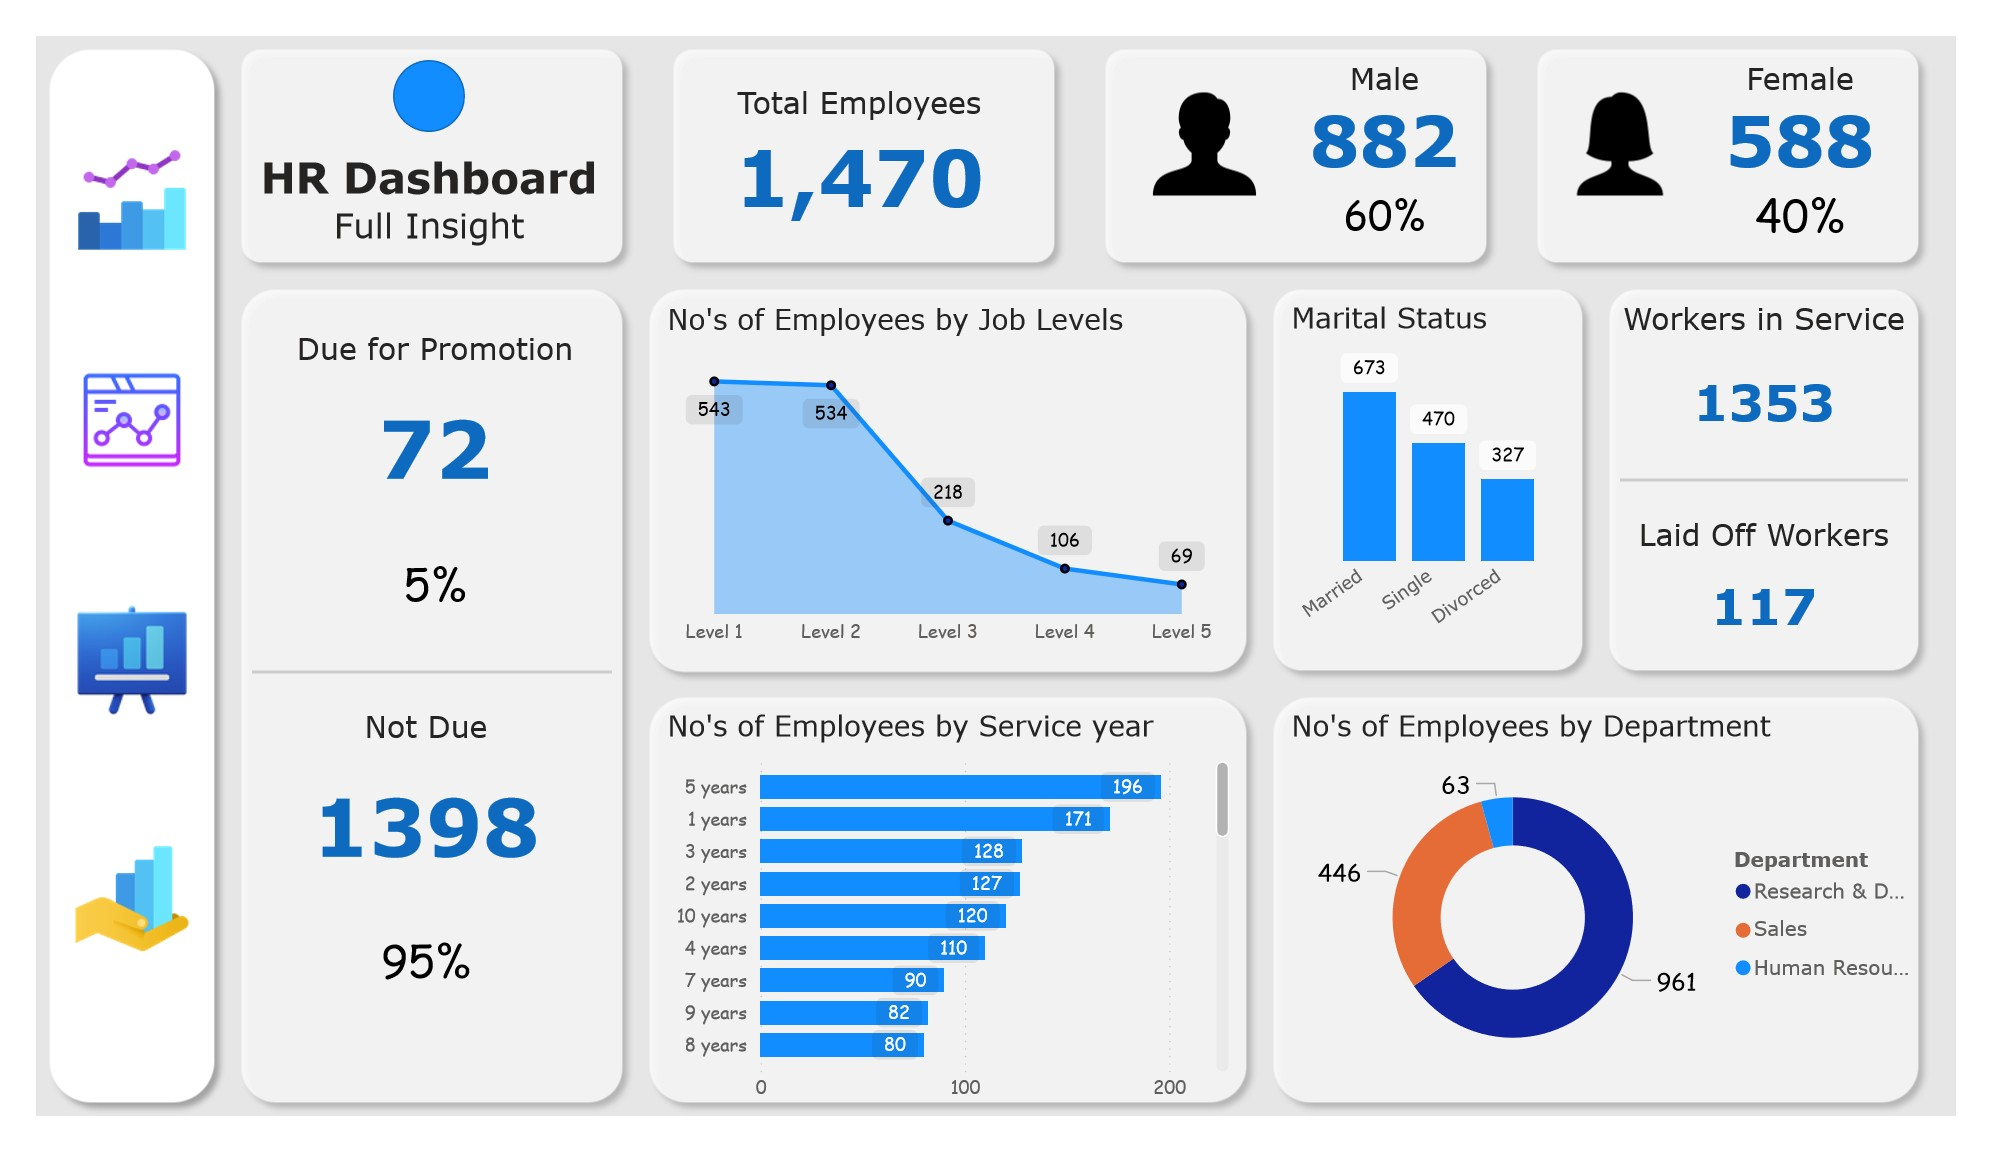

The page's visual inventory and layout, read from the dashboard file:
{"tool":"powerbi","page":{"name":"Page 1","canvas":[1280,720],"ordinal":0},"visuals":[{"type":"shape","box":[0,0,128,720],"z":0},{"type":"shape","box":[128,0,272,160],"z":1000,"group":"g1"},{"type":"shape","box":[704,0,272,160],"z":1000,"group":"g3"},{"type":"shape","box":[128,160,272,560],"z":1000,"group":"g5"},{"type":"shape","box":[1040,160,224,272],"z":1000},{"type":"shape","box":[416,0,272,160],"z":2000,"group":"g2"},{"type":"shape","box":[992,0,272,160],"z":2000,"group":"g4"},{"type":"shape","box":[816,160,224,272],"z":2000,"group":"g9"},{"type":"card","title":"Workers in Service","fields":{"Values":["All Measures.In service"]},"box":[1040,176,224,112],"z":2000},{"type":"shape","box":[400,432,416,288],"z":2000,"group":"g6"},{"type":"shape","box":[816,432,448,288],"z":2000,"group":"g8"},{"type":"shape","box":[400,160,416,273.1],"z":3000,"group":"g7"},{"type":"card","title":"Laid Off Workers","fields":{"Values":["All Measures.Laid off"]},"box":[1056,320,192,96],"z":3000},{"type":"group","id":"g1","title":"Group 1","box":[128,0,272,160],"z":4000},{"type":"group","id":"g2","title":"Group 2","box":[416,0,272,160],"z":5000},{"type":"lineClusteredColumnComboChart","title":"Marital Status","fields":{"Category":["HR Analytics Data.MaritalStatus"],"Y":["CountNonNull(HR Analytics Data.MaritalStatus)"]},"box":[832,176,192,240],"z":5000,"group":"g9"},{"type":"group","id":"g3","title":"Group 4","box":[704,0,272,160],"z":6000},{"type":"donutChart","title":"No''s of Employees by Department","fields":{"Category":["HR Analytics Data.Department"],"Y":["CountNonNull(HR Analytics Data.Department)"]},"box":[832,448,432,256],"z":6000,"group":"g8"},{"type":"group","id":"g4","title":"Group 5","box":[992,0,272,160],"z":7000},{"type":"card","title":"Due for Promotion","fields":{"Values":["All Measures.Due for promotion"]},"box":[165.6,196,200,129.4],"z":7000,"group":"g5"},{"type":"group","id":"g5","title":"Group 6","box":[128,160,272,560],"z":8000},{"type":"card","title":"Male","fields":{"Values":["All Measures.% Due for promotion"]},"box":[225.6,331.7,80,67.9],"z":8000,"group":"g5"},{"type":"card","title":"Female","fields":{"Values":["All Measures.Female"]},"box":[1104,16,144,80],"z":9000,"group":"g4"},{"type":"group","id":"g6","title":"Group 7","box":[400,432,416,272],"z":9000},{"type":"card","title":"Not Due","fields":{"Values":["All Measures.Not Due"]},"box":[160.5,447.7,200,129.4],"z":9000,"group":"g5"},{"type":"card","title":"Male","fields":{"Values":["All Measures.% Female"]},"box":[1136,96,80,48],"z":10000,"group":"g4"},{"type":"shape","box":[1056,288,192,16],"z":10000},{"type":"card","title":"Male","fields":{"Values":["All Measures.% Not Due"]},"box":[220.5,583.5,80,67.9],"z":10000,"group":"g5"},{"type":"card","title":"Male","fields":{"Values":["All Measures.Male"]},"box":[826.7,16,144,80],"z":11000,"group":"g10"},{"type":"image","box":[1008,16,96,112],"z":11000,"group":"g4"},{"type":"group","id":"g7","title":"Group 8","box":[400,160,416,256],"z":11000},{"type":"shape","box":[144,400,240,48],"z":11000,"group":"g5"},{"type":"card","title":"Male","fields":{"Values":["All Measures.% Male"]},"box":[858.7,96,80,48],"z":12000,"group":"g10"},{"type":"group","id":"g8","title":"Group 9","box":[816,432,448,288],"z":12000},{"type":"barChart","title":"No''s of Employees by Service year","fields":{"Category":["HR Analytics Data.Service Year"],"Y":["All Measures.Total Employees"]},"box":[416,448,384,272],"z":12000,"group":"g6"},{"type":"textbox","title":"HR Dashboard","box":[142.1,76.7,240,32],"z":13000,"group":"g1"},{"type":"group","id":"g9","title":"Group 10","box":[816,160,224,272],"z":13000},{"type":"areaChart","title":"No''s of Employees by Job Levels","fields":{"Category":["HR Analytics Data.Job Levels"],"Y":["All Measures.Total Employees"]},"box":[416,177.1,384,238.9],"z":13000,"group":"g7"},{"type":"image","box":[16,64,96,96],"z":14000},{"type":"textbox","title":"Full Insight","box":[142.1,112,240,32],"z":14000,"group":"g1"},{"type":"image","box":[16,528,96,96],"z":14001},{"type":"image","box":[16,208,96,96],"z":14002},{"type":"image","box":[16,352,96,128],"z":14003},{"type":"shape","box":[238.1,16,48,48],"z":15000,"group":"g1"},{"type":"card","title":"Total Employees","fields":{"Values":["All Measures.Total Employees"]},"box":[453.3,32,192,96],"z":16000,"group":"g2"},{"type":"image","box":[730.7,16,96,112],"z":19000,"group":"g10"},{"type":"group","id":"g10","title":"Group 3","box":[730.7,16,240,128],"z":25000,"group":"g3"}]}

Visuals, with their boxes in screenshot pixels (x1, y1, x2, y2), scaled from the page's 1280x720 canvas onto the 1992x1152 screenshot:
shape: 0:0:199:1151
shape: 199:0:622:256
shape: 1096:0:1519:256
shape: 199:256:622:1151
shape: 1618:256:1967:691
shape: 647:0:1071:256
shape: 1544:0:1967:256
shape: 1270:256:1618:691
"Workers in Service" card: 1618:282:1967:461
shape: 622:691:1270:1151
shape: 1270:691:1967:1151
shape: 622:256:1270:693
"Laid Off Workers" card: 1643:512:1942:666
"Group 1" group: 199:0:622:256
"Group 2" group: 647:0:1071:256
"Marital Status" lineClusteredColumnComboChart: 1295:282:1594:666
"Group 4" group: 1096:0:1519:256
"No''s of Employees by Department" donutChart: 1295:717:1967:1126
"Group 5" group: 1544:0:1967:256
"Due for Promotion" card: 258:314:569:521
"Group 6" group: 199:256:622:1151
"Male" card: 351:531:476:639
"Female" card: 1718:26:1942:154
"Group 7" group: 622:691:1270:1126
"Not Due" card: 250:716:561:923
"Male" card: 1768:154:1892:230
shape: 1643:461:1942:486
"Male" card: 343:934:468:1042
"Male" card: 1287:26:1511:154
image: 1569:26:1718:205
"Group 8" group: 622:256:1270:666
shape: 224:640:598:717
"Male" card: 1336:154:1461:230
"Group 9" group: 1270:691:1967:1151
"No''s of Employees by Service year" barChart: 647:717:1245:1151
"HR Dashboard" textbox: 221:123:595:174
"Group 10" group: 1270:256:1618:691
"No''s of Employees by Job Levels" areaChart: 647:283:1245:666
image: 25:102:174:256
"Full Insight" textbox: 221:179:595:230
image: 25:845:174:998
image: 25:333:174:486
image: 25:563:174:768
shape: 371:26:445:102
"Total Employees" card: 705:51:1004:205
image: 1137:26:1287:205
"Group 3" group: 1137:26:1511:230
